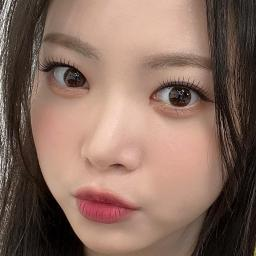face: (36, 0, 222, 252)
